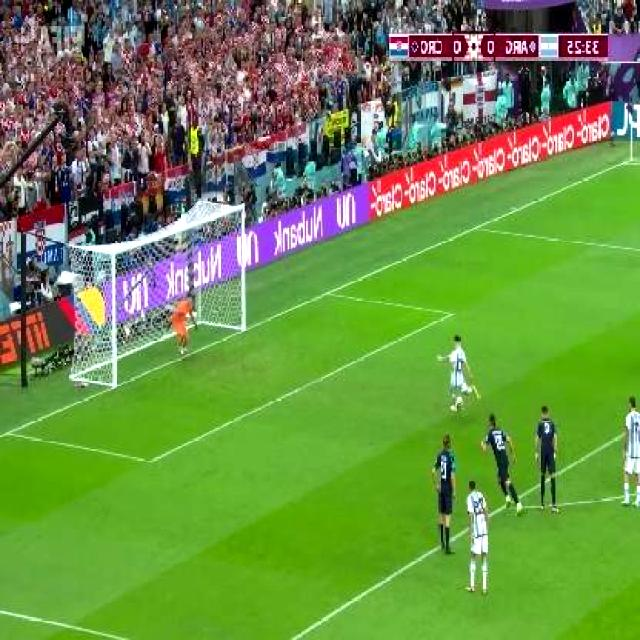bigarea_top_outter: (468, 217, 484, 237)
corner: (621, 149, 640, 167)
smallarea_bottom_inner: (139, 441, 166, 477)
smallarea_bottom_outter: (0, 417, 22, 446)
smallarea_top_inner: (442, 302, 462, 324)
smallarea_top_outter: (320, 282, 338, 303)
